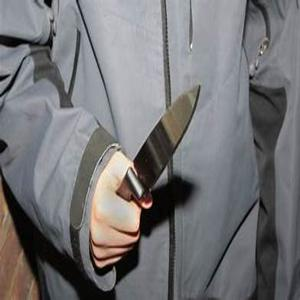sharptool: (23, 68, 234, 256)
